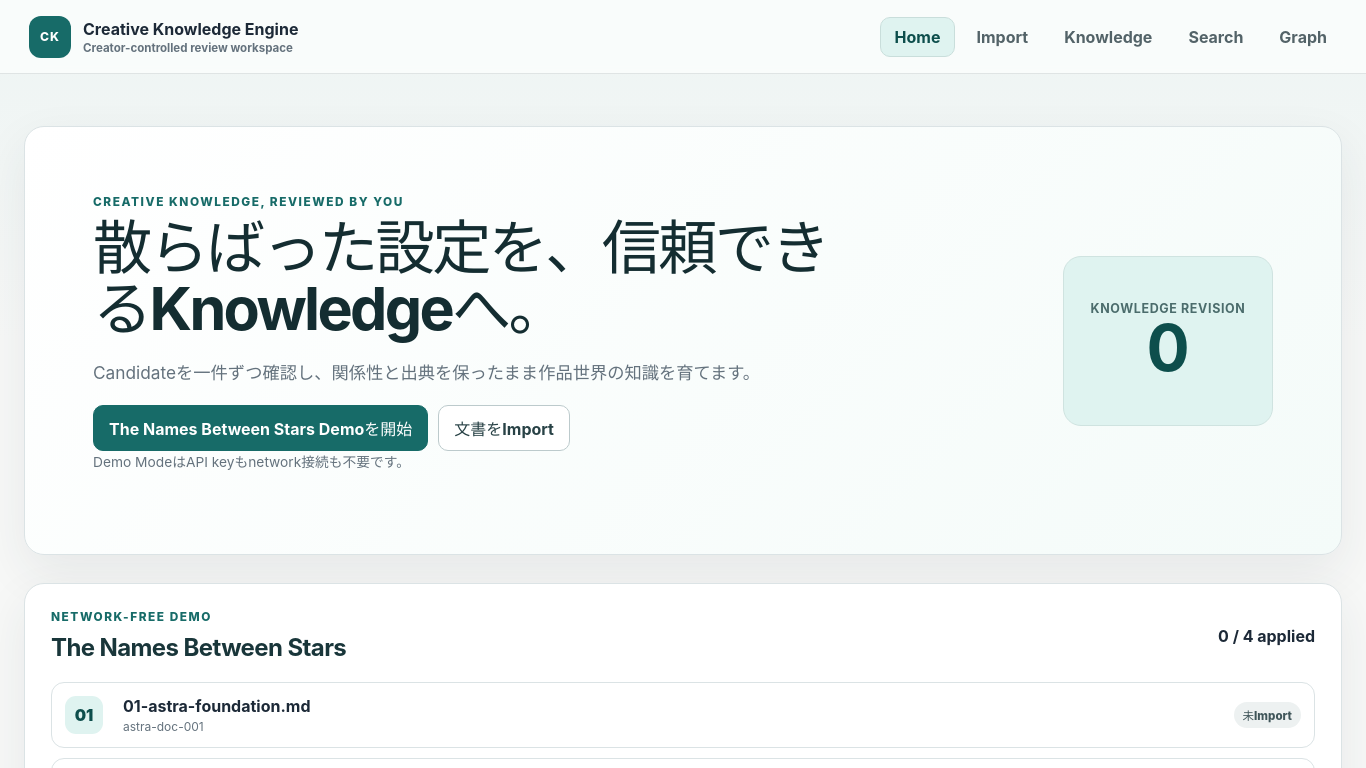
Step 7 Graph UI › shows a usable empty Graph state
Expected: the heading "散らばった設定を、信頼できるKnowledgeへ。" is shown, [93, 218, 873, 340]
Click the button "Graph".
click(1303, 36)  # box [1264, 16, 1342, 56]
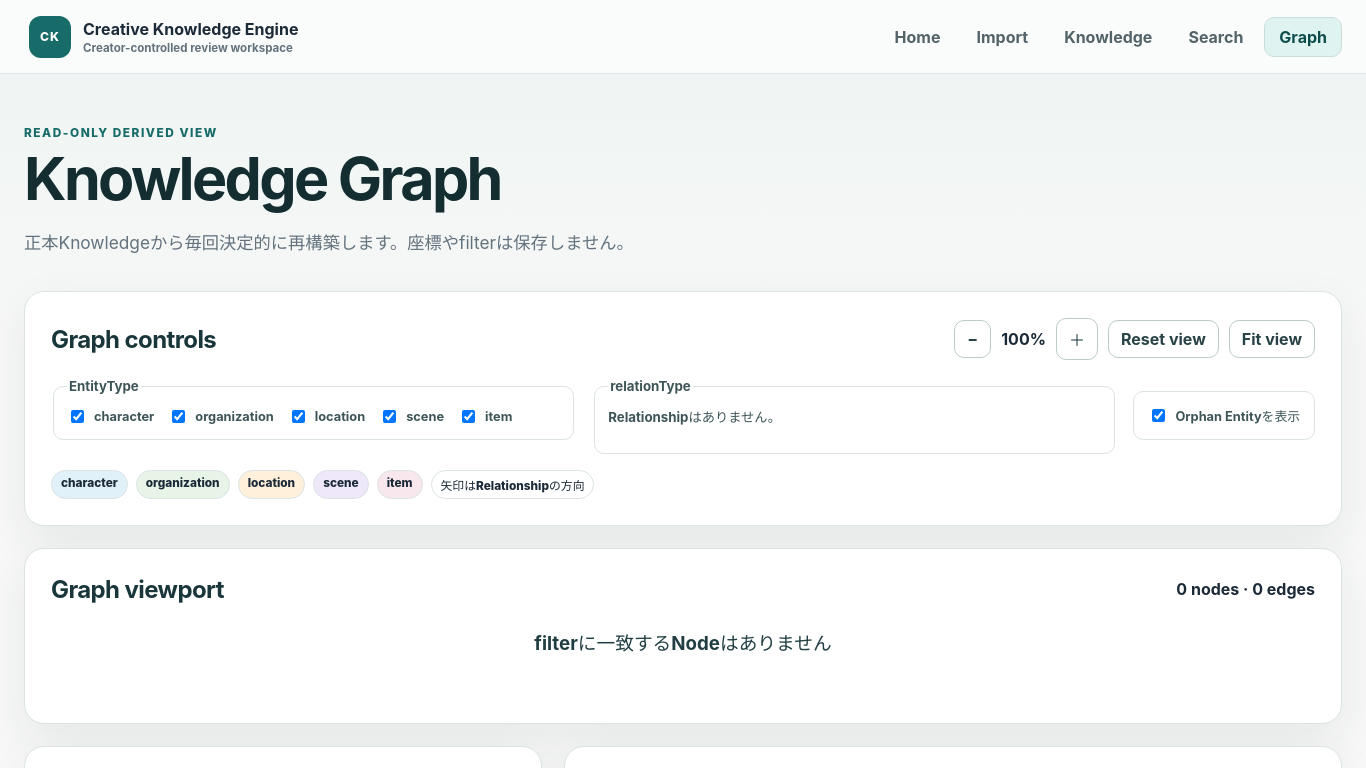
Now the heading "filterに一致するNodeはありません" is shown, box [534, 632, 832, 655]
Now the text "0 nodes · 0 edges" is shown, box [1176, 579, 1315, 599]
